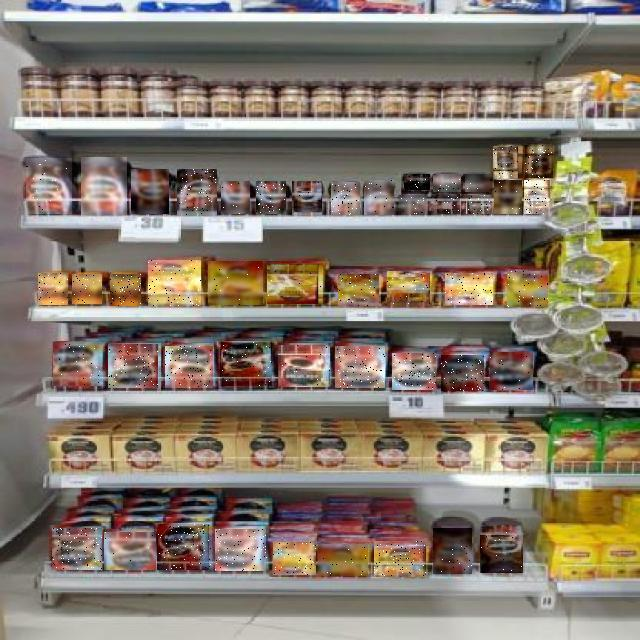Coffee: (81, 157, 127, 215), (26, 158, 72, 214), (158, 525, 212, 571), (148, 260, 201, 306), (208, 261, 263, 305), (220, 342, 272, 386), (108, 344, 158, 388), (278, 345, 330, 387), (216, 529, 268, 571), (268, 264, 322, 304), (54, 343, 102, 387), (335, 346, 385, 388), (53, 528, 103, 570), (480, 525, 523, 573), (165, 347, 213, 389), (104, 532, 156, 570), (374, 541, 426, 577), (177, 170, 217, 216), (433, 528, 472, 574), (131, 169, 169, 214), (490, 353, 533, 391), (392, 353, 436, 390), (318, 544, 368, 576), (441, 355, 484, 391), (445, 273, 493, 305), (507, 271, 548, 307), (387, 272, 430, 306), (273, 542, 316, 575), (338, 274, 379, 306), (364, 180, 394, 215), (292, 182, 322, 216), (110, 274, 141, 306), (256, 181, 286, 214), (38, 273, 68, 305), (221, 181, 250, 214), (331, 182, 360, 215), (495, 180, 523, 214), (494, 146, 522, 179), (525, 145, 553, 178), (72, 274, 102, 304), (525, 180, 551, 214), (399, 195, 427, 214), (435, 195, 461, 215), (433, 174, 461, 192), (466, 195, 492, 214), (466, 174, 492, 192), (404, 175, 430, 191)
